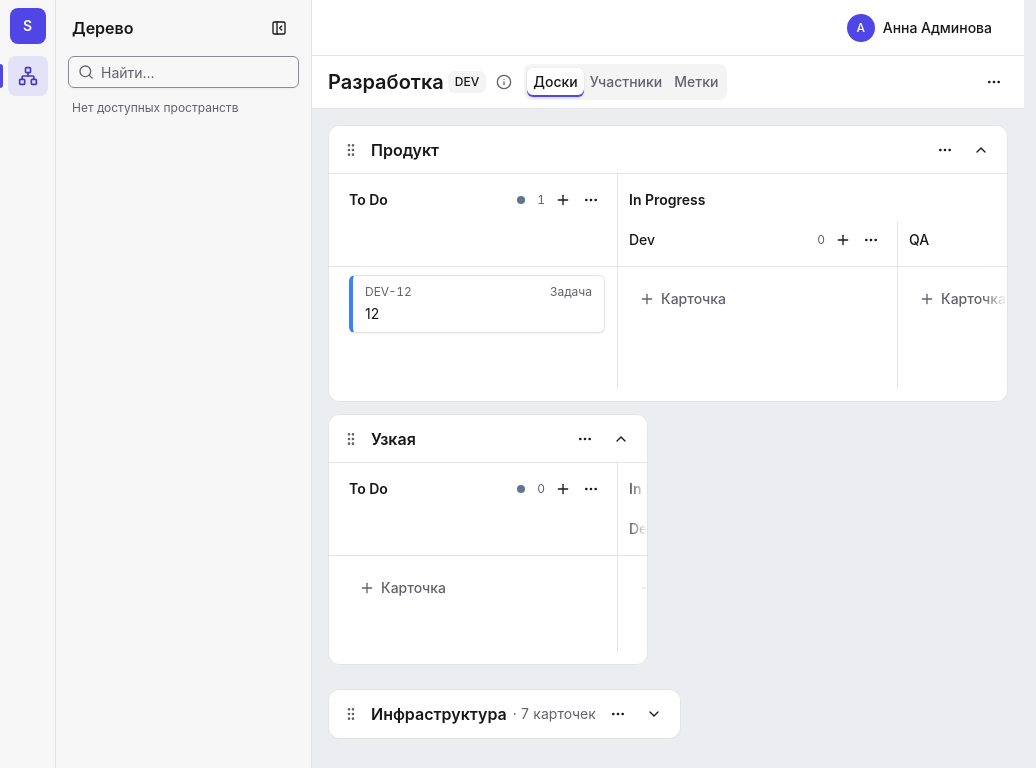
Test: Страница пространства: доски рядами › администратор переставляет доску пунктами меню «Переставить»
The image size is (1036, 768).
Expected: the element showing "DEV-12 Задача 12 Карточка Карточка Карточка" is shown, [349,275,1008,333]
# Меню загруженной доски (у заглушки — своё, короткое)
Click the button named "Действия с доской «Продукт»" at (945, 150), box [931,136,959,164]
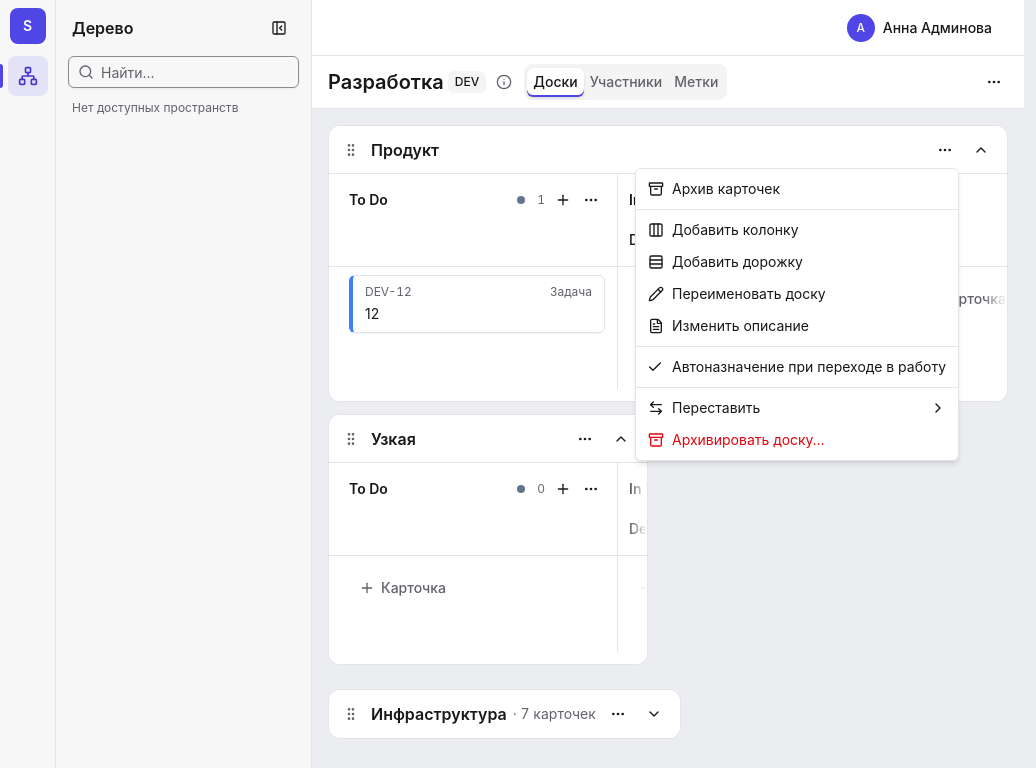
Click the menu item "Переставить" at (716, 408), box [648,399,946,416]
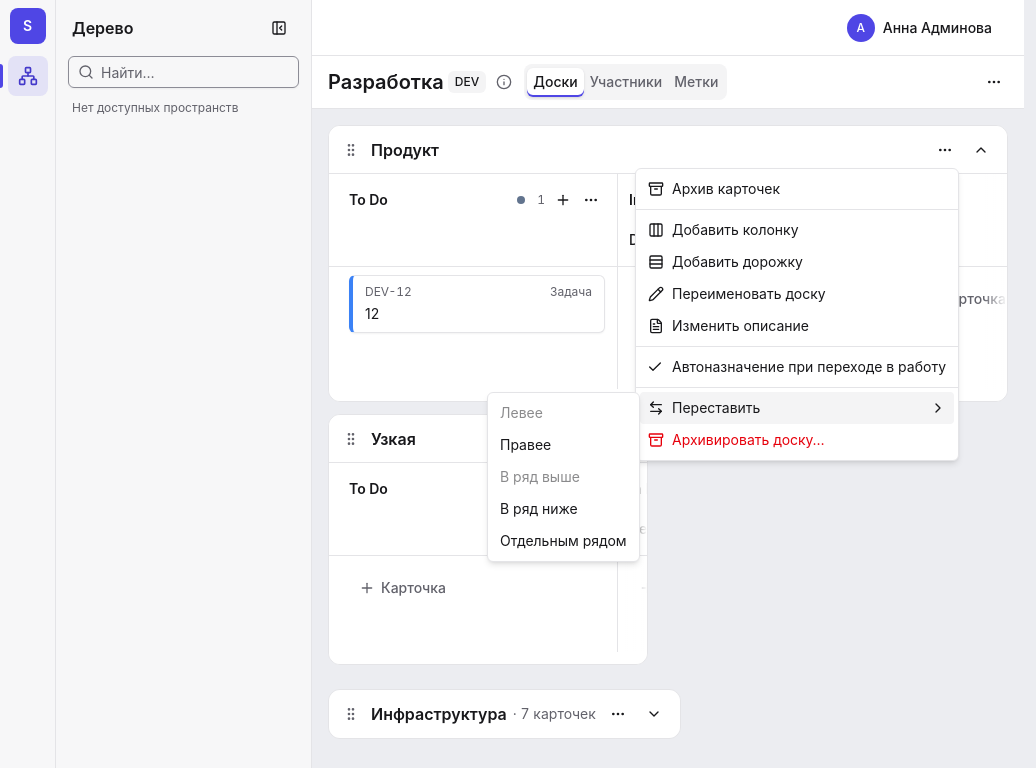
Click the menu item "Правее" at (526, 444), box [500,436,551,453]
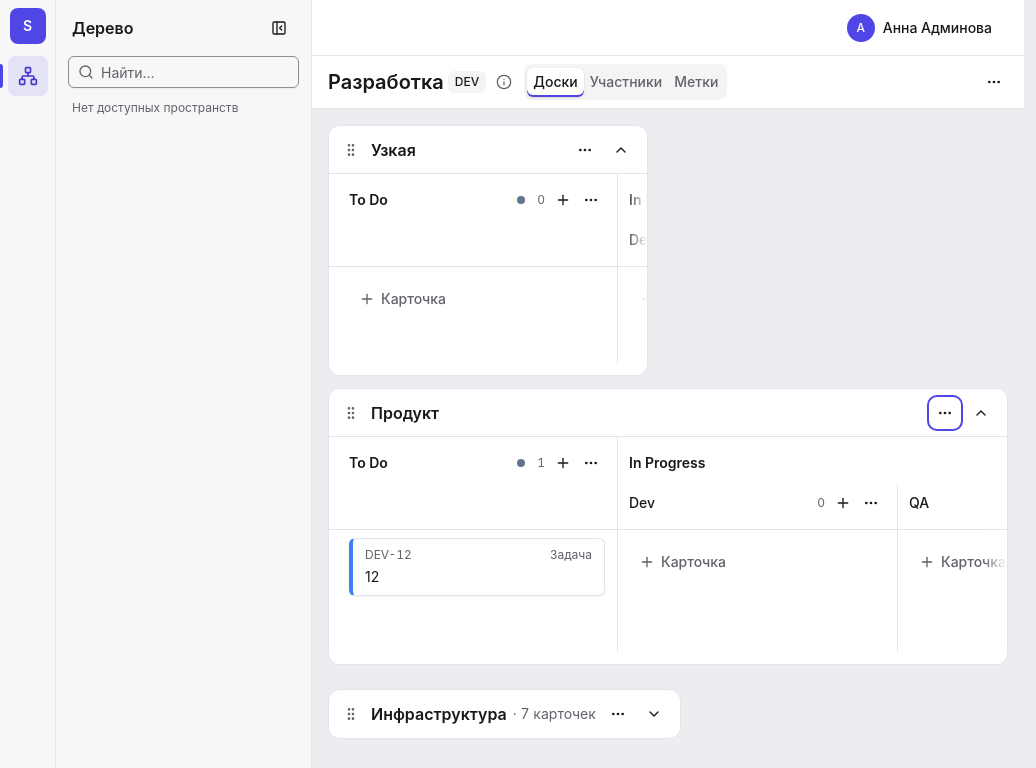
Now the headings read "Узкая", "Продукт", in this order, box [371,138,416,162]; [371,400,439,424]
